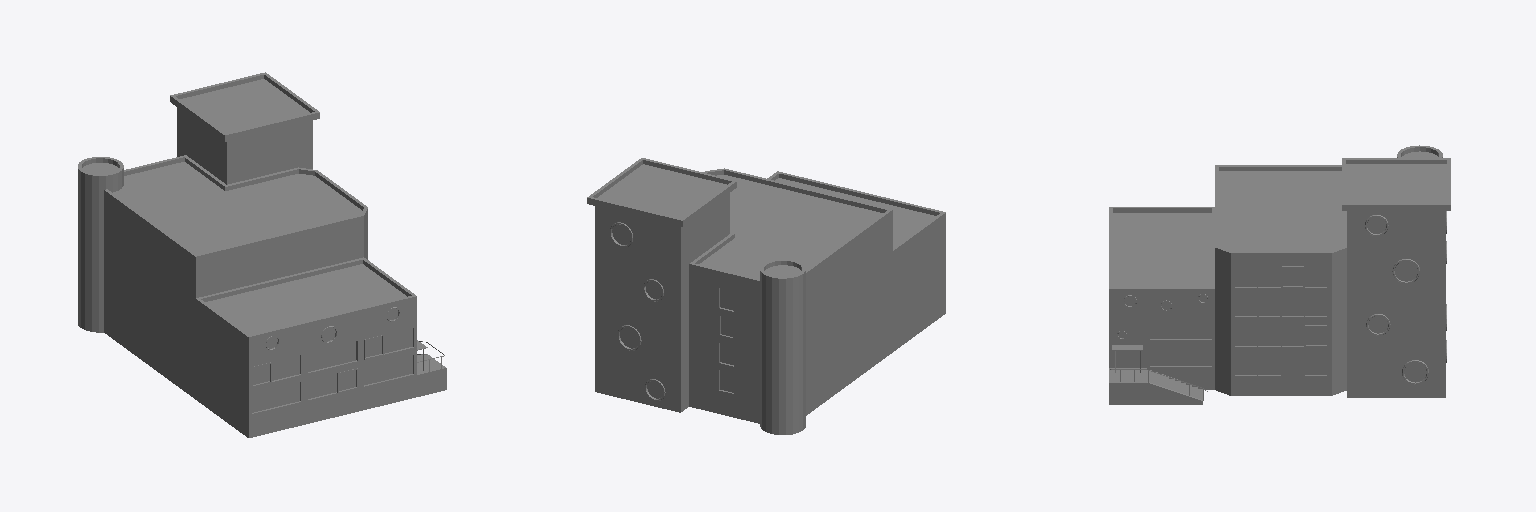
The model's file is KinderGarten.obj.
The picture shows the model from 3 angles: view 1: azimuth 30°, elevation 25°; view 2: azimuth 150°, elevation 25°; view 3: azimuth 270°, elevation 25°; orthographic projection.
Visible parts, largest first — view 1: Box135_Mesh; view 2: Box135_Mesh; view 3: Box135_Mesh.
Boxes of the visible parts, x1,y1,x2,y2 form: Box135_Mesh: [78, 72, 446, 437]; Box135_Mesh: [587, 158, 945, 434]; Box135_Mesh: [1109, 145, 1450, 404].
Bounding box in the file's own units: 0.6298 × 0.5592 × 0.8873.